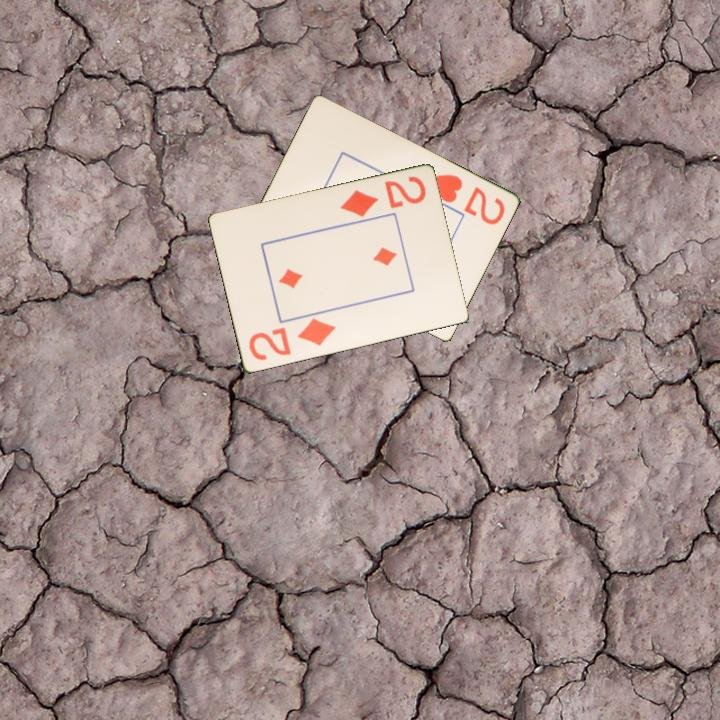2d: (245, 315, 339, 364), (336, 173, 429, 221)
2h: (423, 171, 507, 228)
